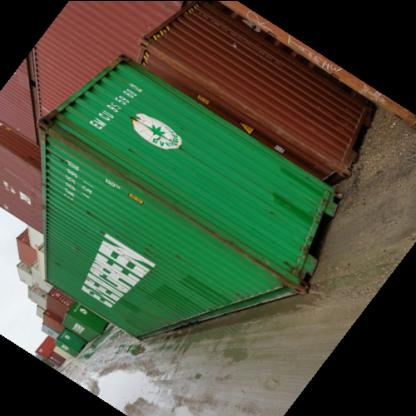Damage: (196, 226, 295, 295), (112, 168, 212, 230), (38, 122, 138, 171)
